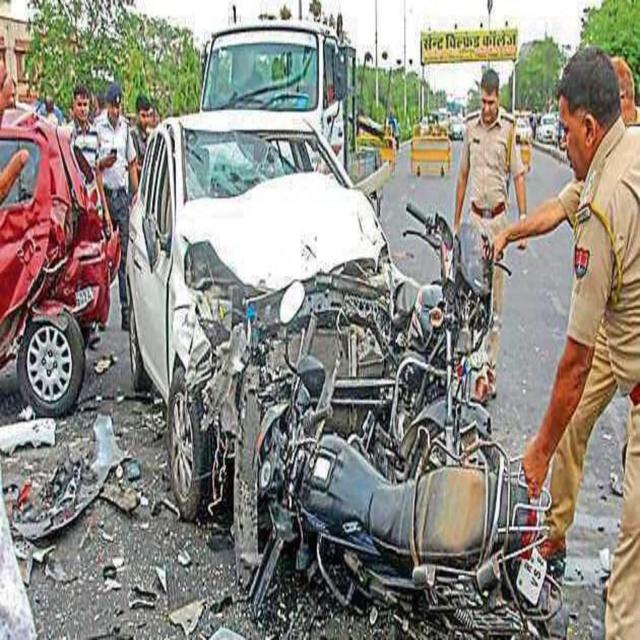accident: (129, 111, 396, 581), (250, 282, 561, 638), (0, 111, 120, 416), (389, 202, 492, 468)
